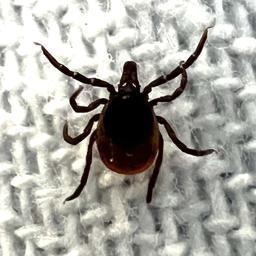Ixodes scapularis: (37, 26, 219, 203)
